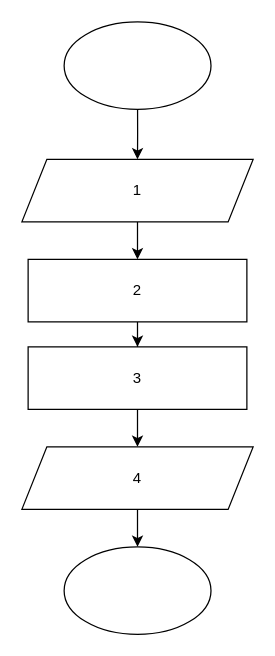
This 275x656 diagram has some shape labels left out. Each missing label, with the centre of its shape:
"END" goes at (x=137, y=590).
"START" goes at (x=137, y=65).
